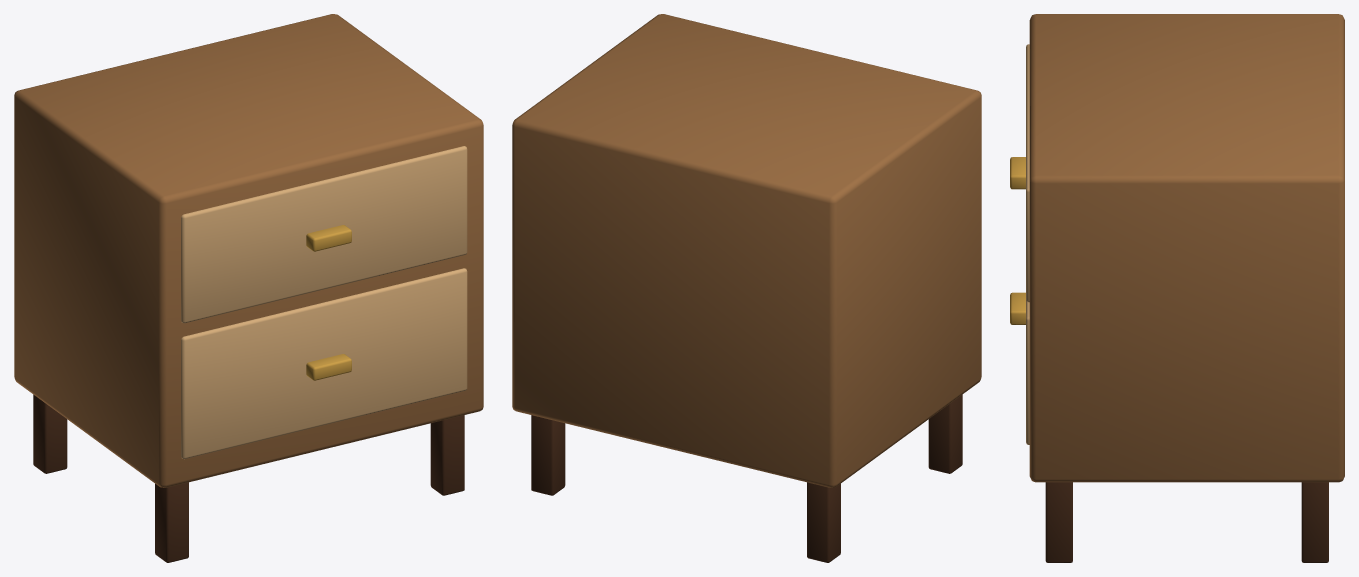
File: Nightstand.glb
The picture shows the model from 3 angles, left to right: view 1: azimuth 30°, elevation 25°; view 2: azimuth 150°, elevation 25°; view 3: azimuth 270°, elevation 25°; orthographic projection. The views are drawn at different scales.
Parts seen in each view (by area): view 1: Nightstand; view 2: Nightstand; view 3: Nightstand.
Part boxes in pixels (box(x1,y1,x2,y2)): Nightstand: box(14, 14, 483, 562); Nightstand: box(512, 14, 981, 562); Nightstand: box(1010, 14, 1344, 562).
Size of the model in its own units: 0.5 by 0.55 by 0.425.
